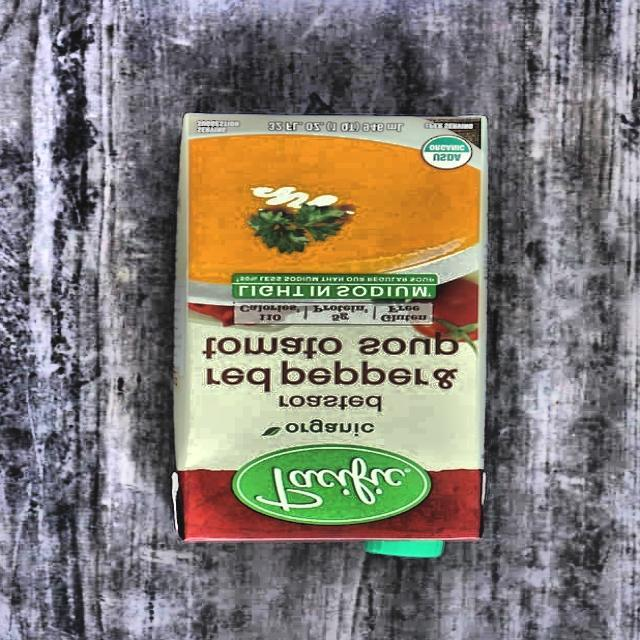cardboard: (170, 114, 489, 546)
